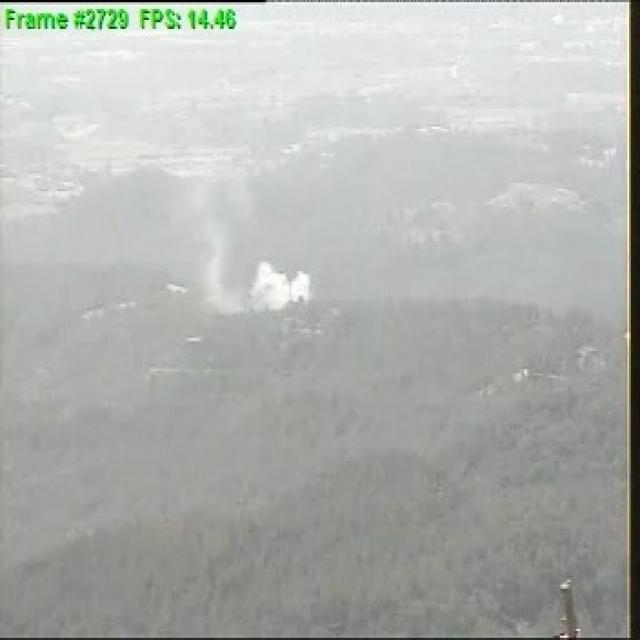smoke: (207, 254, 312, 318)
